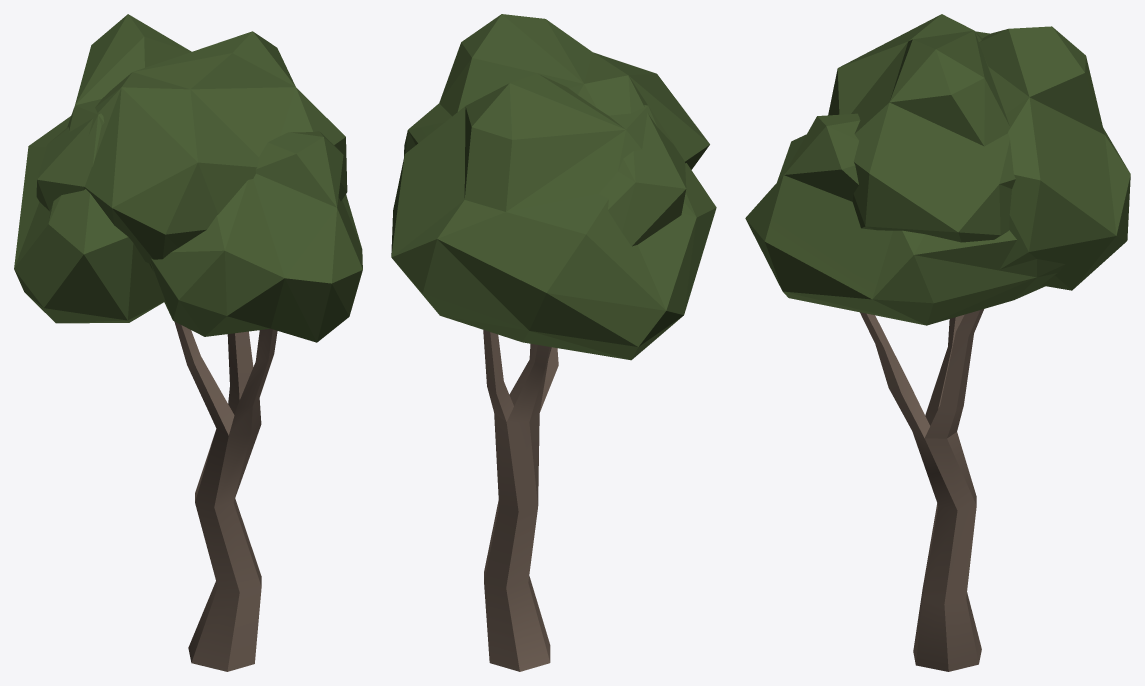
Rendered from LoofboomHoog3.fbx.
3 views of the same model, side by side, from view 1: azimuth 30°, elevation 25°; view 2: azimuth 150°, elevation 25°; view 3: azimuth 270°, elevation 25° (orthographic).
Visible parts, largest first — view 1: polySurface3154; view 2: polySurface3154; view 3: polySurface3154.
Boxes of the visible parts, box(x1,y1,x2,y2) form: polySurface3154: box(14, 14, 362, 671); polySurface3154: box(391, 14, 716, 671); polySurface3154: box(745, 14, 1130, 671).
Size of the model in its own units: 5.73 by 11.95 by 6.73.
